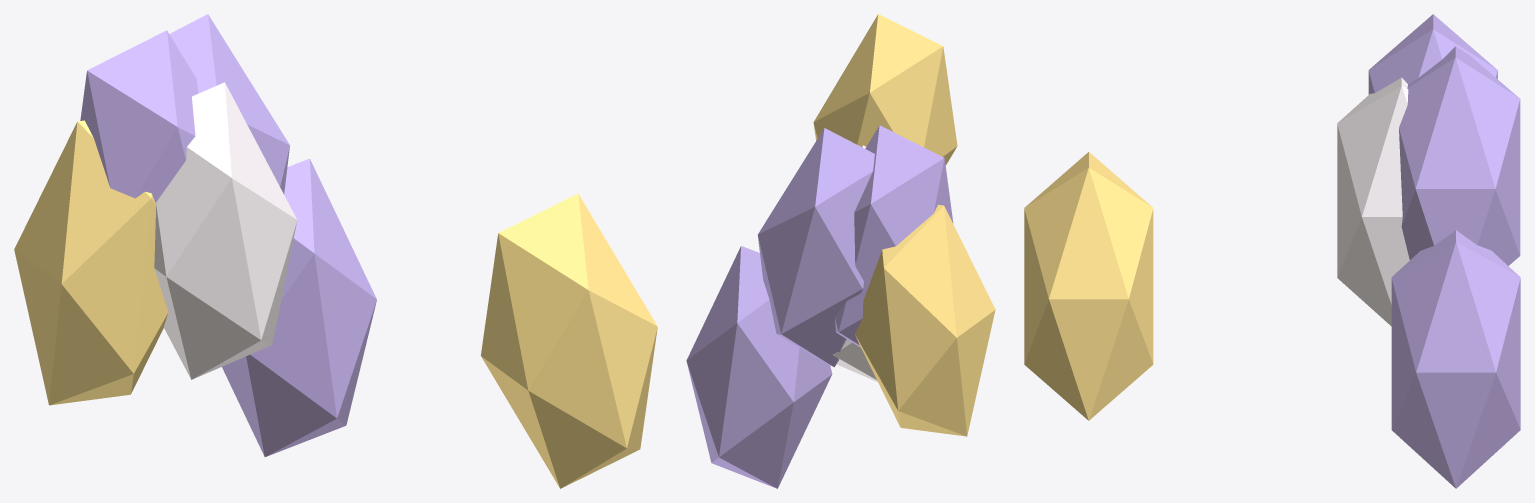
The model's file is flowers.glb.
The picture shows the model from 3 angles, left to right: view 1: azimuth 30°, elevation 25°; view 2: azimuth 150°, elevation 25°; view 3: azimuth 270°, elevation 25°; orthographic projection. The views are drawn at different scales.
Size of the model in its own units: 0.9024 by 1.02 by 1.18.
